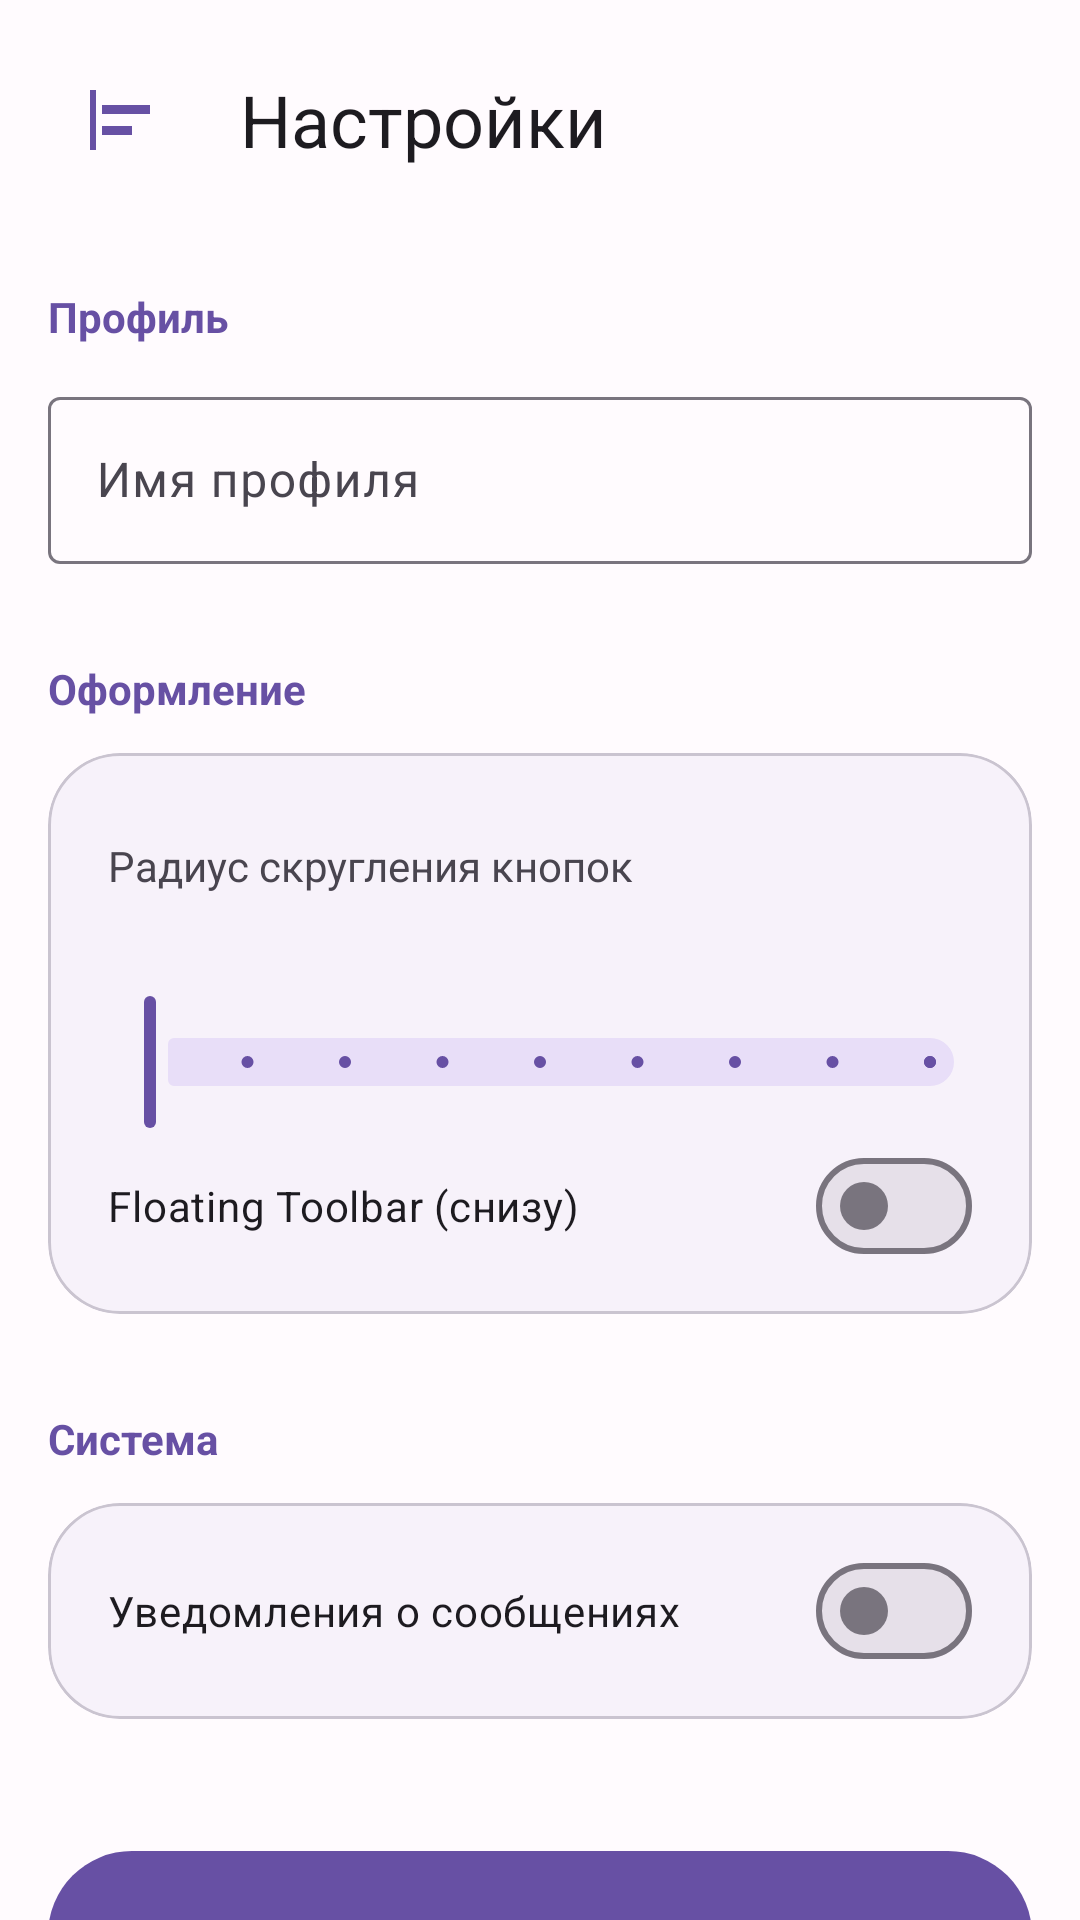

Icon click points for this 1080w x 1920h phone screenshot, format point (x, y):
Меню: point (120, 120)
